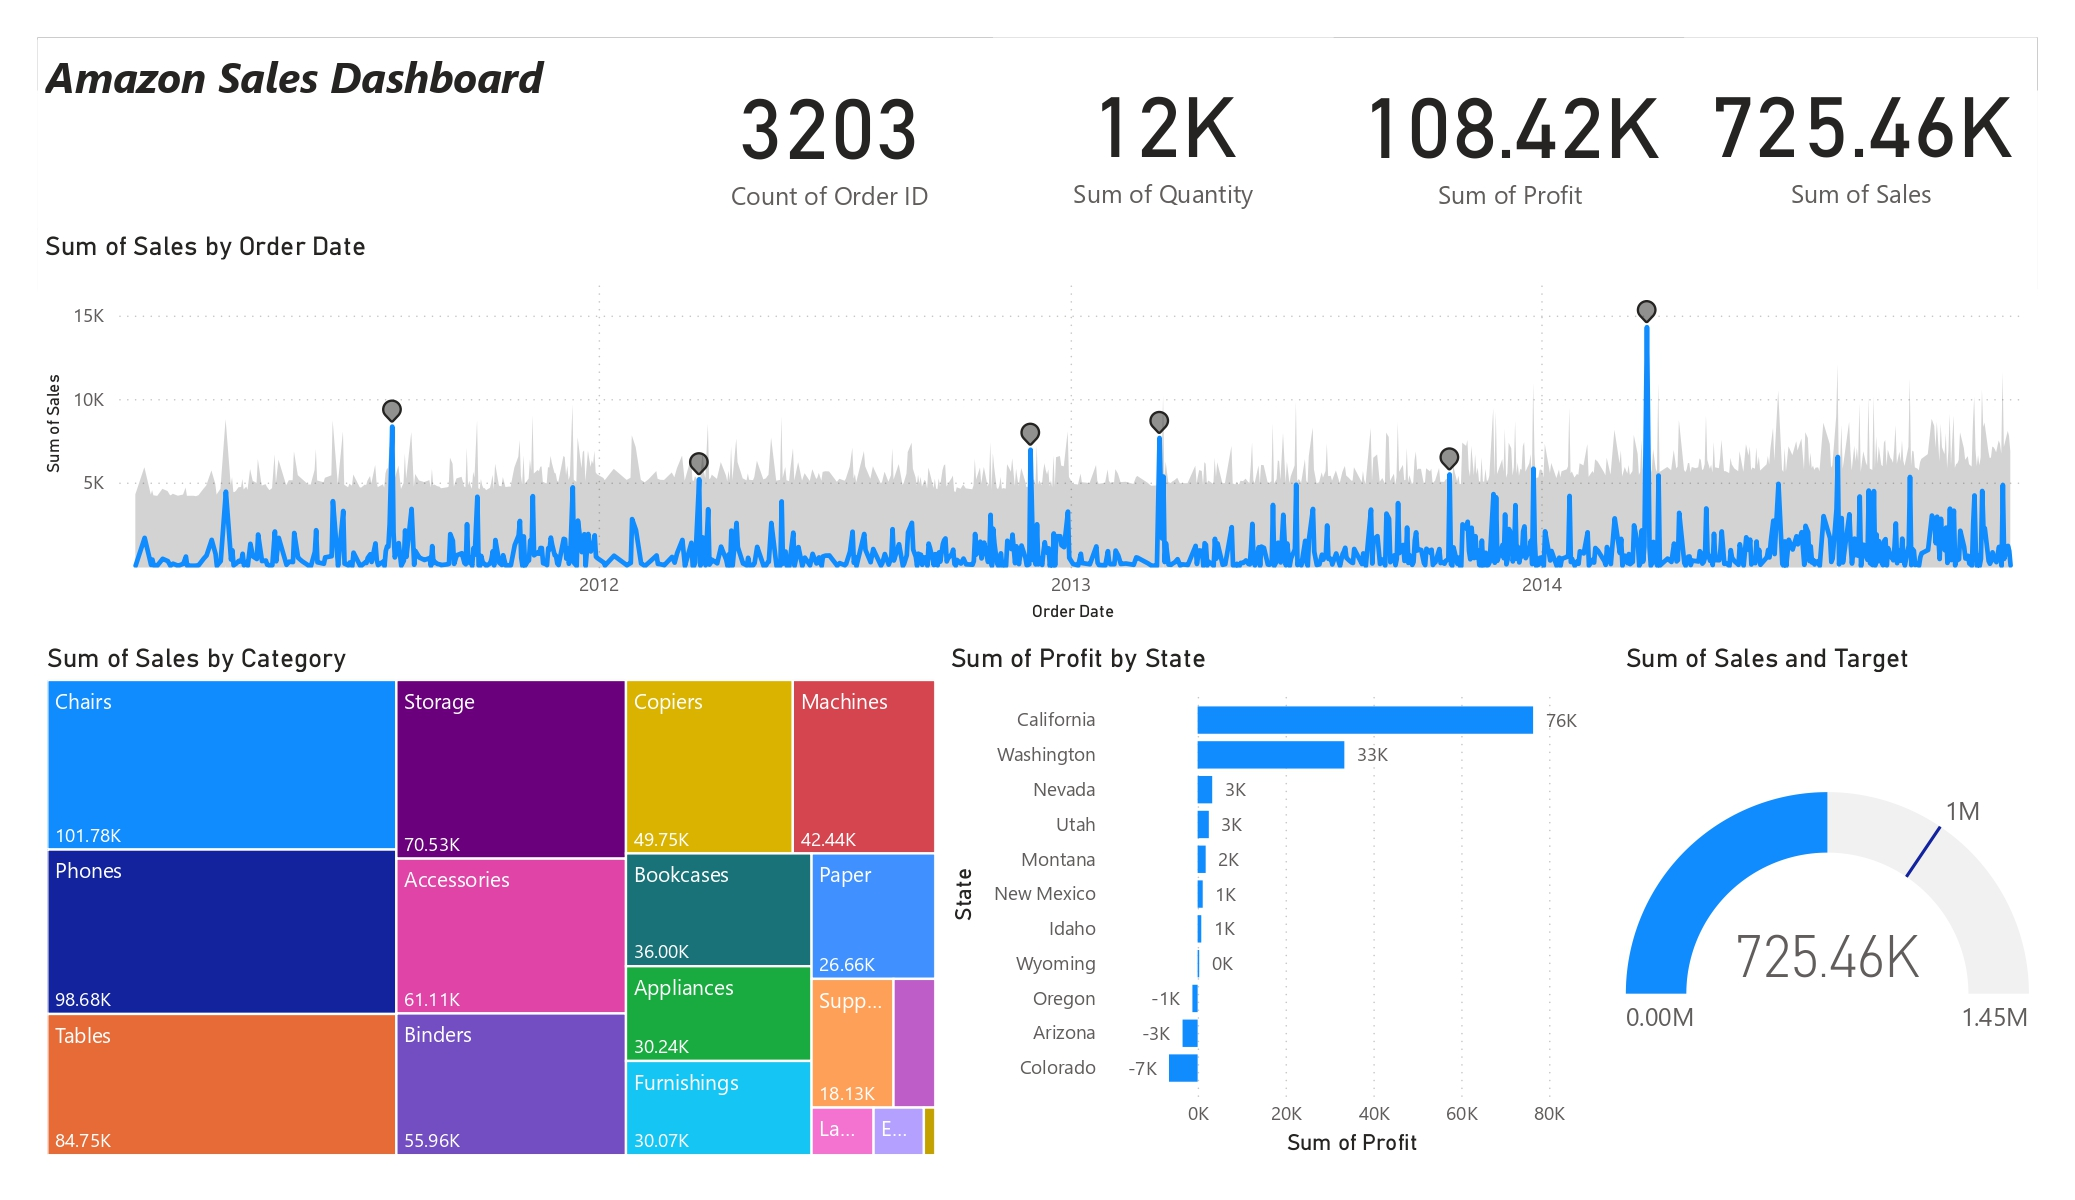

The page's visual inventory and layout, read from the dashboard file:
{"tool":"powerbi","page":{"name":"Page 1","canvas":[1280,720],"ordinal":0},"visuals":[{"type":"card","fields":{"Values":["Sum(Walmart.Sales)"]},"box":[1053.9,0,226.4,122.1],"z":0},{"type":"card","fields":{"Values":["Sum(Walmart.Profit)"]},"box":[830.2,1.4,223.7,120.8],"z":1000},{"type":"card","fields":{"Values":["Sum(Walmart.Quantity)"]},"box":[612,0,218.2,122.1],"z":2000},{"type":"card","fields":{"Values":["CountNonNull(Walmart.Order ID)"]},"box":[400.7,1.4,211.3,122.1],"z":3000},{"type":"lineChart","fields":{"Y":["Sum(Walmart.Sales)"],"Category":["Walmart.Order Date"]},"box":[0,123.1,1280.8,255.1],"z":4000},{"type":"treemap","fields":{"Group":["Walmart.Category"],"Values":["Sum(Walmart.Sales)"]},"box":[1.3,387.2,578.2,333.3],"z":5000},{"type":"barChart","fields":{"Category":["Walmart.State"],"Y":["Sum(Walmart.Profit)"]},"box":[579.5,387.2,432.1,333.3],"z":6000},{"type":"gauge","fields":{"Y":["Sum(Walmart.Sales)"],"TargetValue":["Walmart.Target"]},"box":[1011.5,387.2,267.9,333.3],"z":7000},{"type":"textbox","box":[0,1.4,400.7,120.8],"z":7001}]}

Visuals, with their boxes in screenshot pixels (x1, y1, x2, y2):
card - Sum(Walmart.Sales): bbox(1684, 38, 2038, 228)
card - Sum(Walmart.Profit): bbox(1335, 40, 1684, 228)
card - Sum(Walmart.Quantity): bbox(994, 38, 1335, 228)
card - CountNonNull(Walmart.Order ID): bbox(664, 40, 994, 230)
lineChart - Sum(Walmart.Sales) x Walmart.Order Date: bbox(38, 230, 2038, 628)
treemap - Walmart.Category x Sum(Walmart.Sales): bbox(40, 642, 943, 1162)
barChart - Walmart.State x Sum(Walmart.Profit): bbox(943, 642, 1618, 1162)
gauge - Sum(Walmart.Sales) x Walmart.Target: bbox(1618, 642, 2037, 1162)
textbox: bbox(38, 40, 664, 228)
